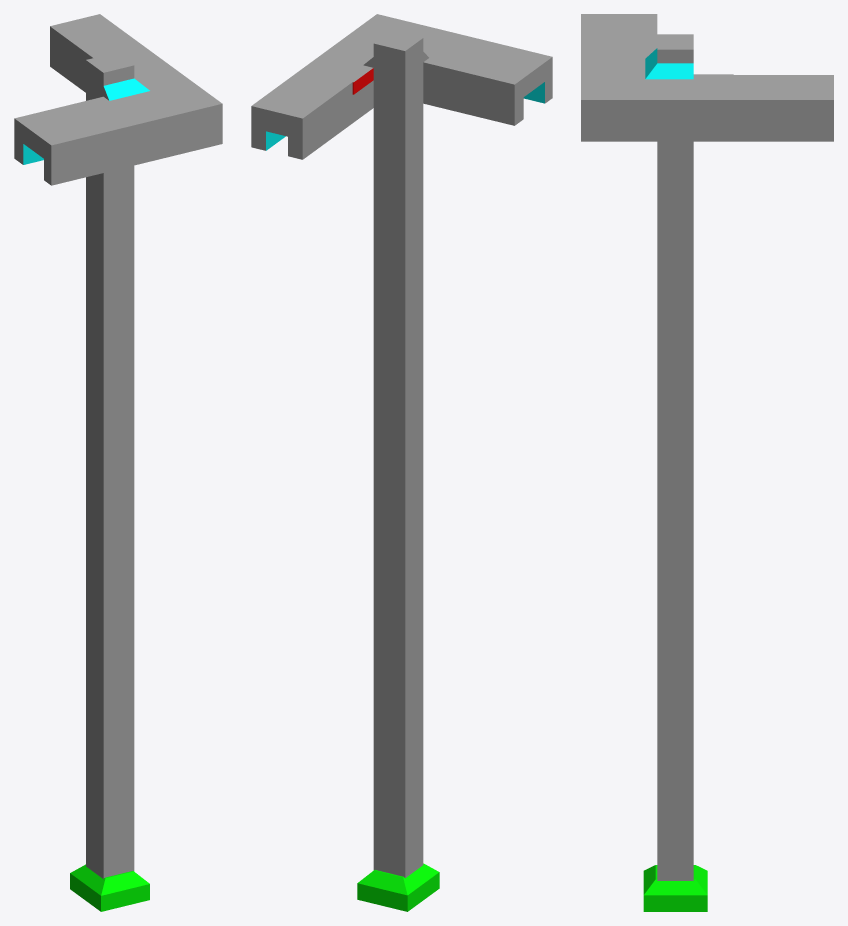
The model's file is 弯道飞架.FBX.
3 views of the same model, side by side, from view 1: azimuth 30°, elevation 25°; view 2: azimuth 150°, elevation 25°; view 3: azimuth 270°, elevation 25° (orthographic). The views are drawn at different scales.
Visible parts, largest first — view 1: *SOL488; view 2: *SOL488; view 3: *SOL488.
Part boxes in pixels (x1,y1,x2,y2): *SOL488: (14,14,222,911); *SOL488: (251,14,552,911); *SOL488: (581,14,833,911).
Bounding box in the file's own units: 2.63 × 12.2 × 3.26.
